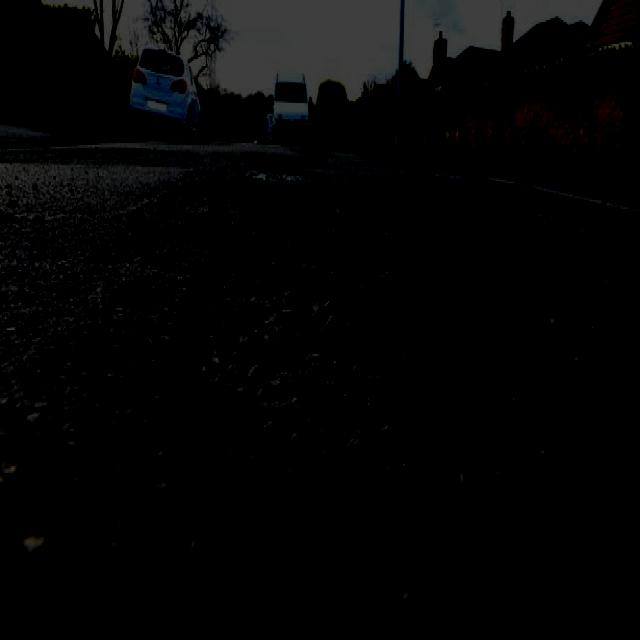Pothole: (95, 162, 419, 528)
